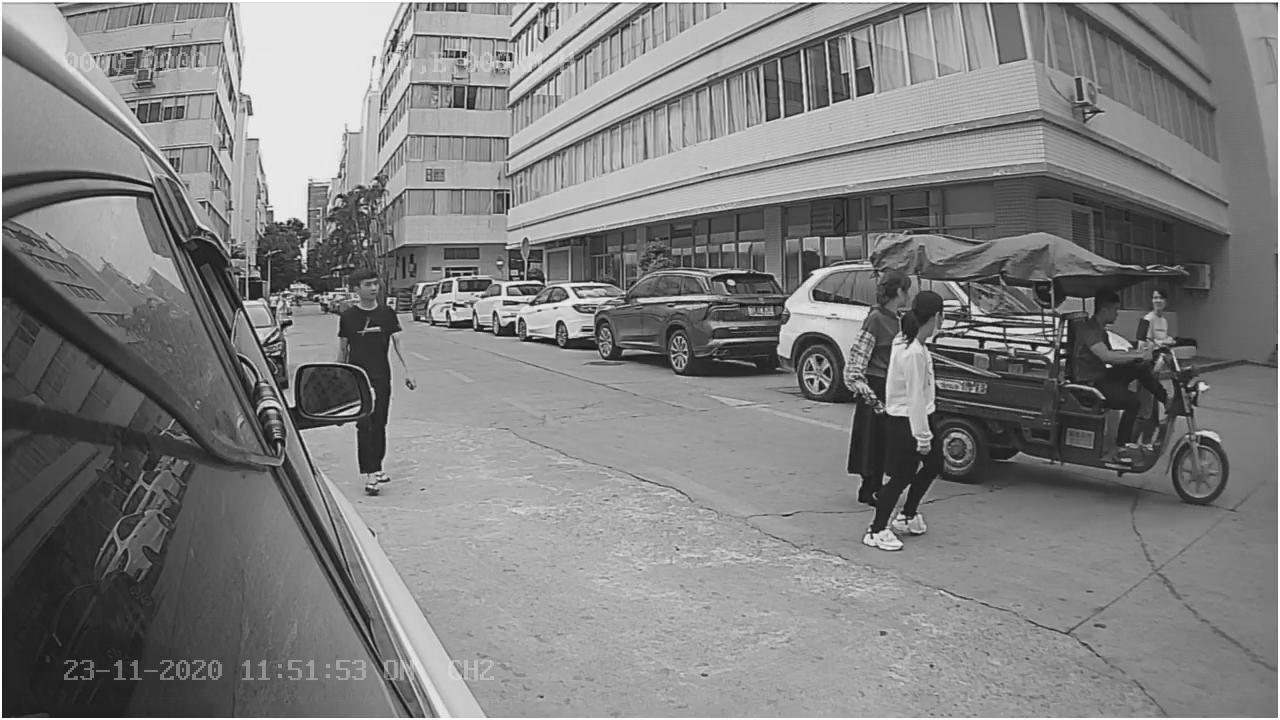person: (859, 291, 943, 546), (1075, 287, 1146, 366)
